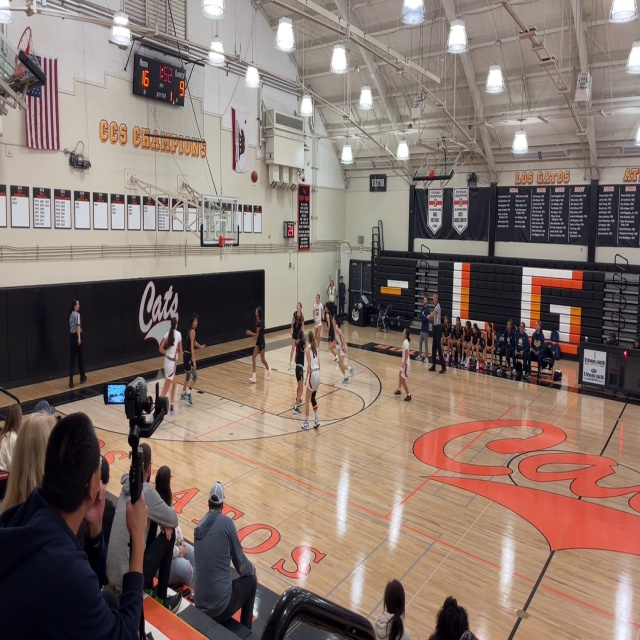Basketball: (251, 171, 258, 183)
